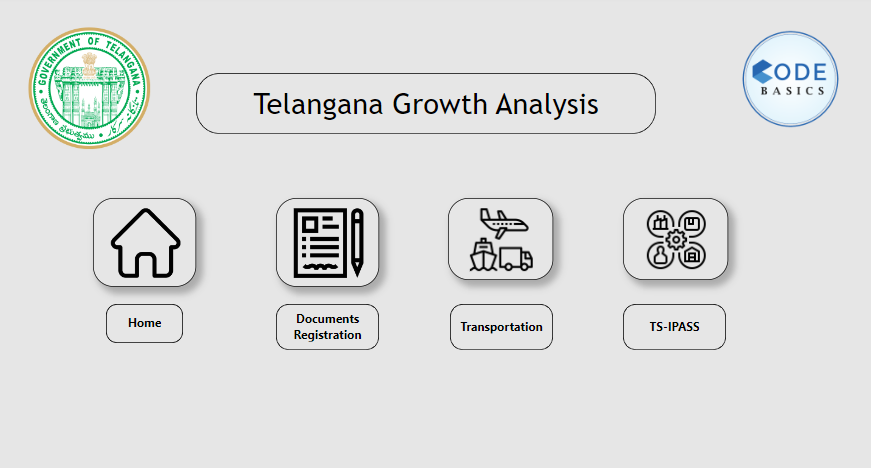

What the dashboard file says about the page in this screenshot:
{"tool":"powerbi","page":{"name":"Home page","canvas":[1280,720],"ordinal":0},"visuals":[{"type":"shape","box":[289.8,106.8,673.2,89.3],"z":0},{"type":"image","box":[1039,22,200.5,169.8],"z":1000},{"type":"shape","box":[146.7,423.3,161.7,73.3],"z":2000},{"type":"shape","box":[410,420,196.7,100],"z":3000},{"type":"shape","box":[696.7,423.3,213.3,66.7],"z":4000},{"type":"shape","box":[993.3,423.3,150,66.7],"z":5000},{"type":"image","box":[14.6,22,200.5,169.8],"z":6000},{"type":"image","box":[146.7,265,175,140],"z":7000},{"type":"image","box":[420,265,175,140],"z":8000},{"type":"image","box":[715,261.7,175,140],"z":9000},{"type":"image","box":[980,261.7,175,140],"z":10000}]}

Visuals, with their boxes on the page's 1280x720 design canvas (x1, y1, x2, y2). These are canvas units, not pixel positions in the 871x468 screenshot, which may show the page scaled, cropped or inside an application window:
shape: <region>290, 107, 963, 196</region>
image: <region>1039, 22, 1240, 192</region>
shape: <region>147, 423, 308, 497</region>
shape: <region>410, 420, 607, 520</region>
shape: <region>697, 423, 910, 490</region>
shape: <region>993, 423, 1143, 490</region>
image: <region>15, 22, 215, 192</region>
image: <region>147, 265, 322, 405</region>
image: <region>420, 265, 595, 405</region>
image: <region>715, 262, 890, 402</region>
image: <region>980, 262, 1155, 402</region>
